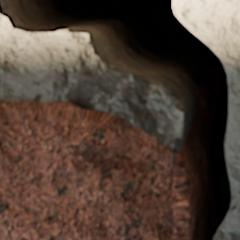brick: (0, 101, 192, 239)
crack: (2, 0, 237, 239)
